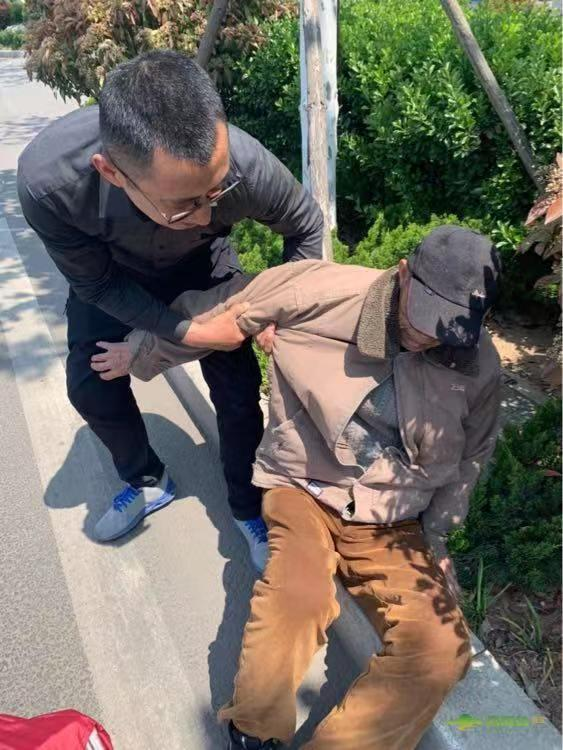bending: (188, 222, 502, 750), (18, 63, 299, 571)
